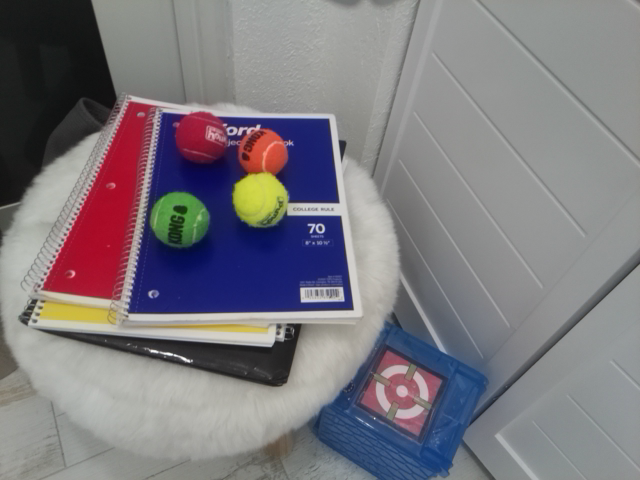drop-bin: (354, 345, 447, 443)
green-ball: (149, 189, 211, 251)
orange-ball: (236, 127, 289, 178)
red-ball: (175, 111, 229, 166)
yellow-ball: (231, 172, 289, 228)
